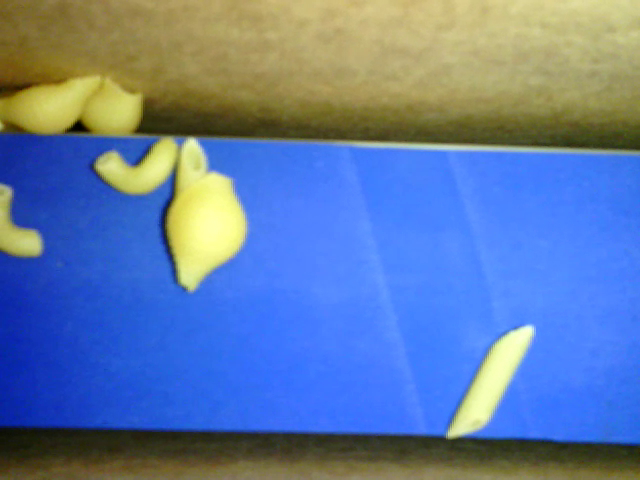elbow: (90, 138, 177, 193), (1, 178, 46, 258)
penne: (446, 318, 539, 438), (174, 139, 207, 187)
shell: (164, 169, 249, 297), (1, 72, 98, 137), (77, 76, 143, 136)
